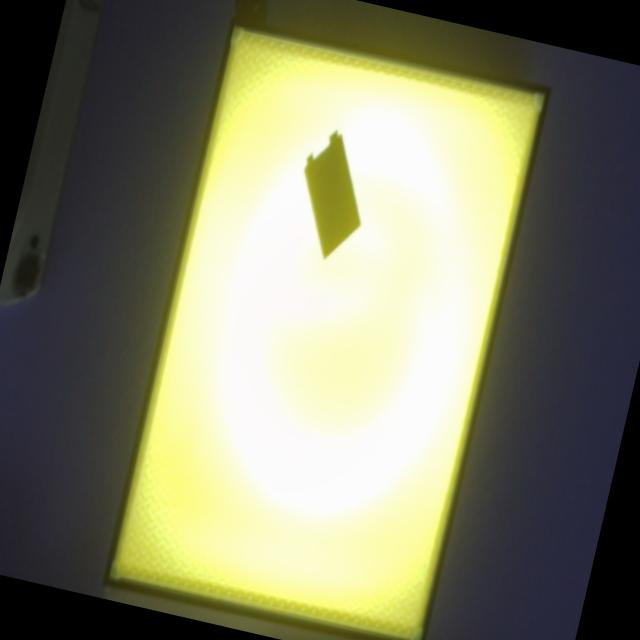bateria: (303, 130, 360, 260)
mesa: (102, 15, 551, 640)
